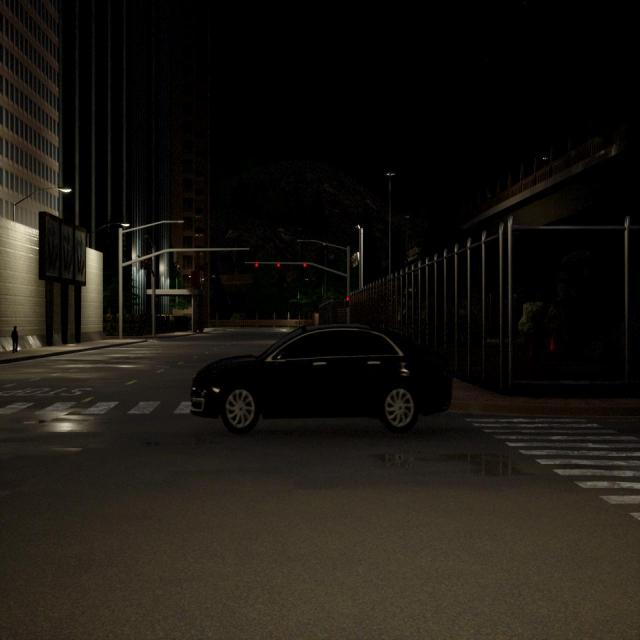Pedestrian: (11, 325, 19, 354)
Vehicle: (191, 326, 416, 432)
traffic_light: (140, 260, 144, 270), (346, 297, 350, 307), (144, 260, 147, 270), (147, 260, 150, 270), (277, 262, 280, 268), (255, 262, 258, 267), (304, 263, 306, 267)
